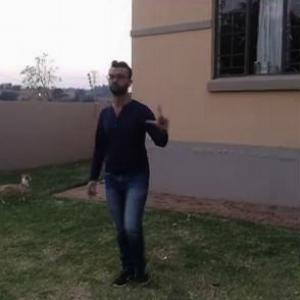land_hand: (143, 99, 173, 135)
